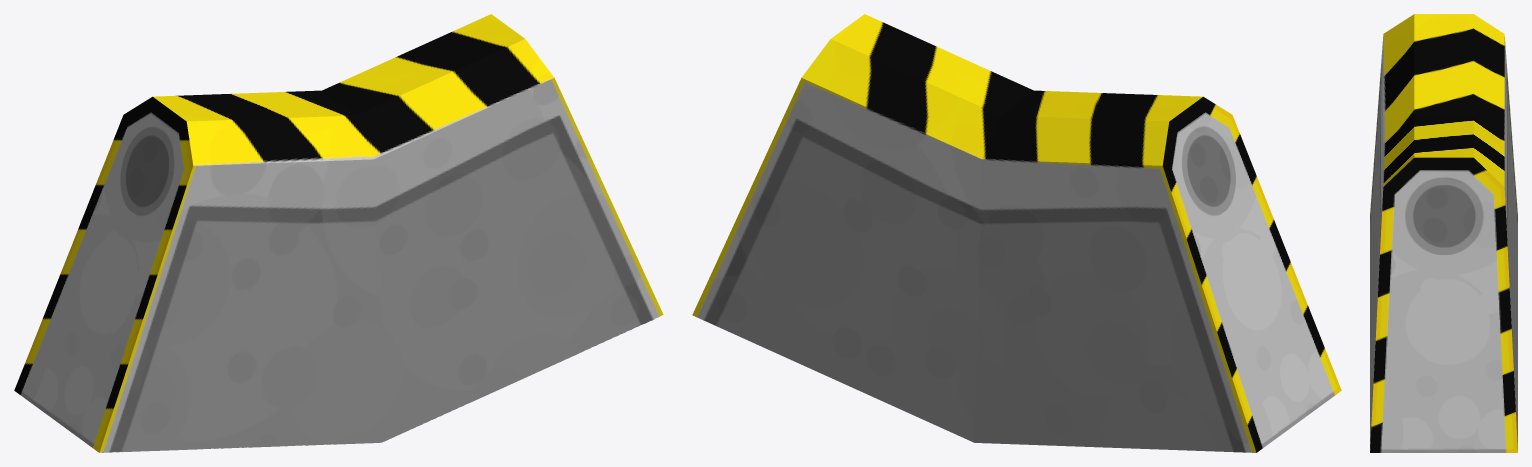
Rendered from Wall.FBX.
3 views of the same model, side by side, from view 1: azimuth 30°, elevation 25°; view 2: azimuth 150°, elevation 25°; view 3: azimuth 270°, elevation 25° (orthographic). The views are drawn at different scales.
Visible parts, largest first — view 1: Wall; view 2: Wall; view 3: Wall.
Boxes of the visible parts, bbox=[...] form: Wall: bbox=[14, 14, 663, 452]; Wall: bbox=[692, 14, 1341, 452]; Wall: bbox=[1370, 14, 1517, 452].
Bounding box in the file's own units: 151 × 87.73 × 39.37.
Materials: 1 (1 with a texture image).
